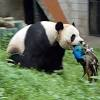panda: (3, 17, 85, 83)
